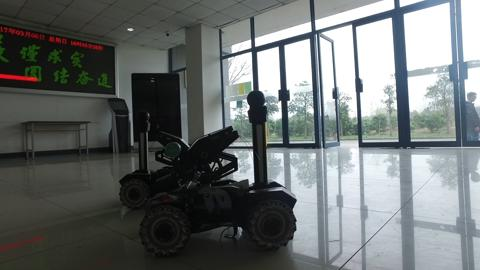chariot: (143, 89, 303, 256), (114, 110, 197, 214)
